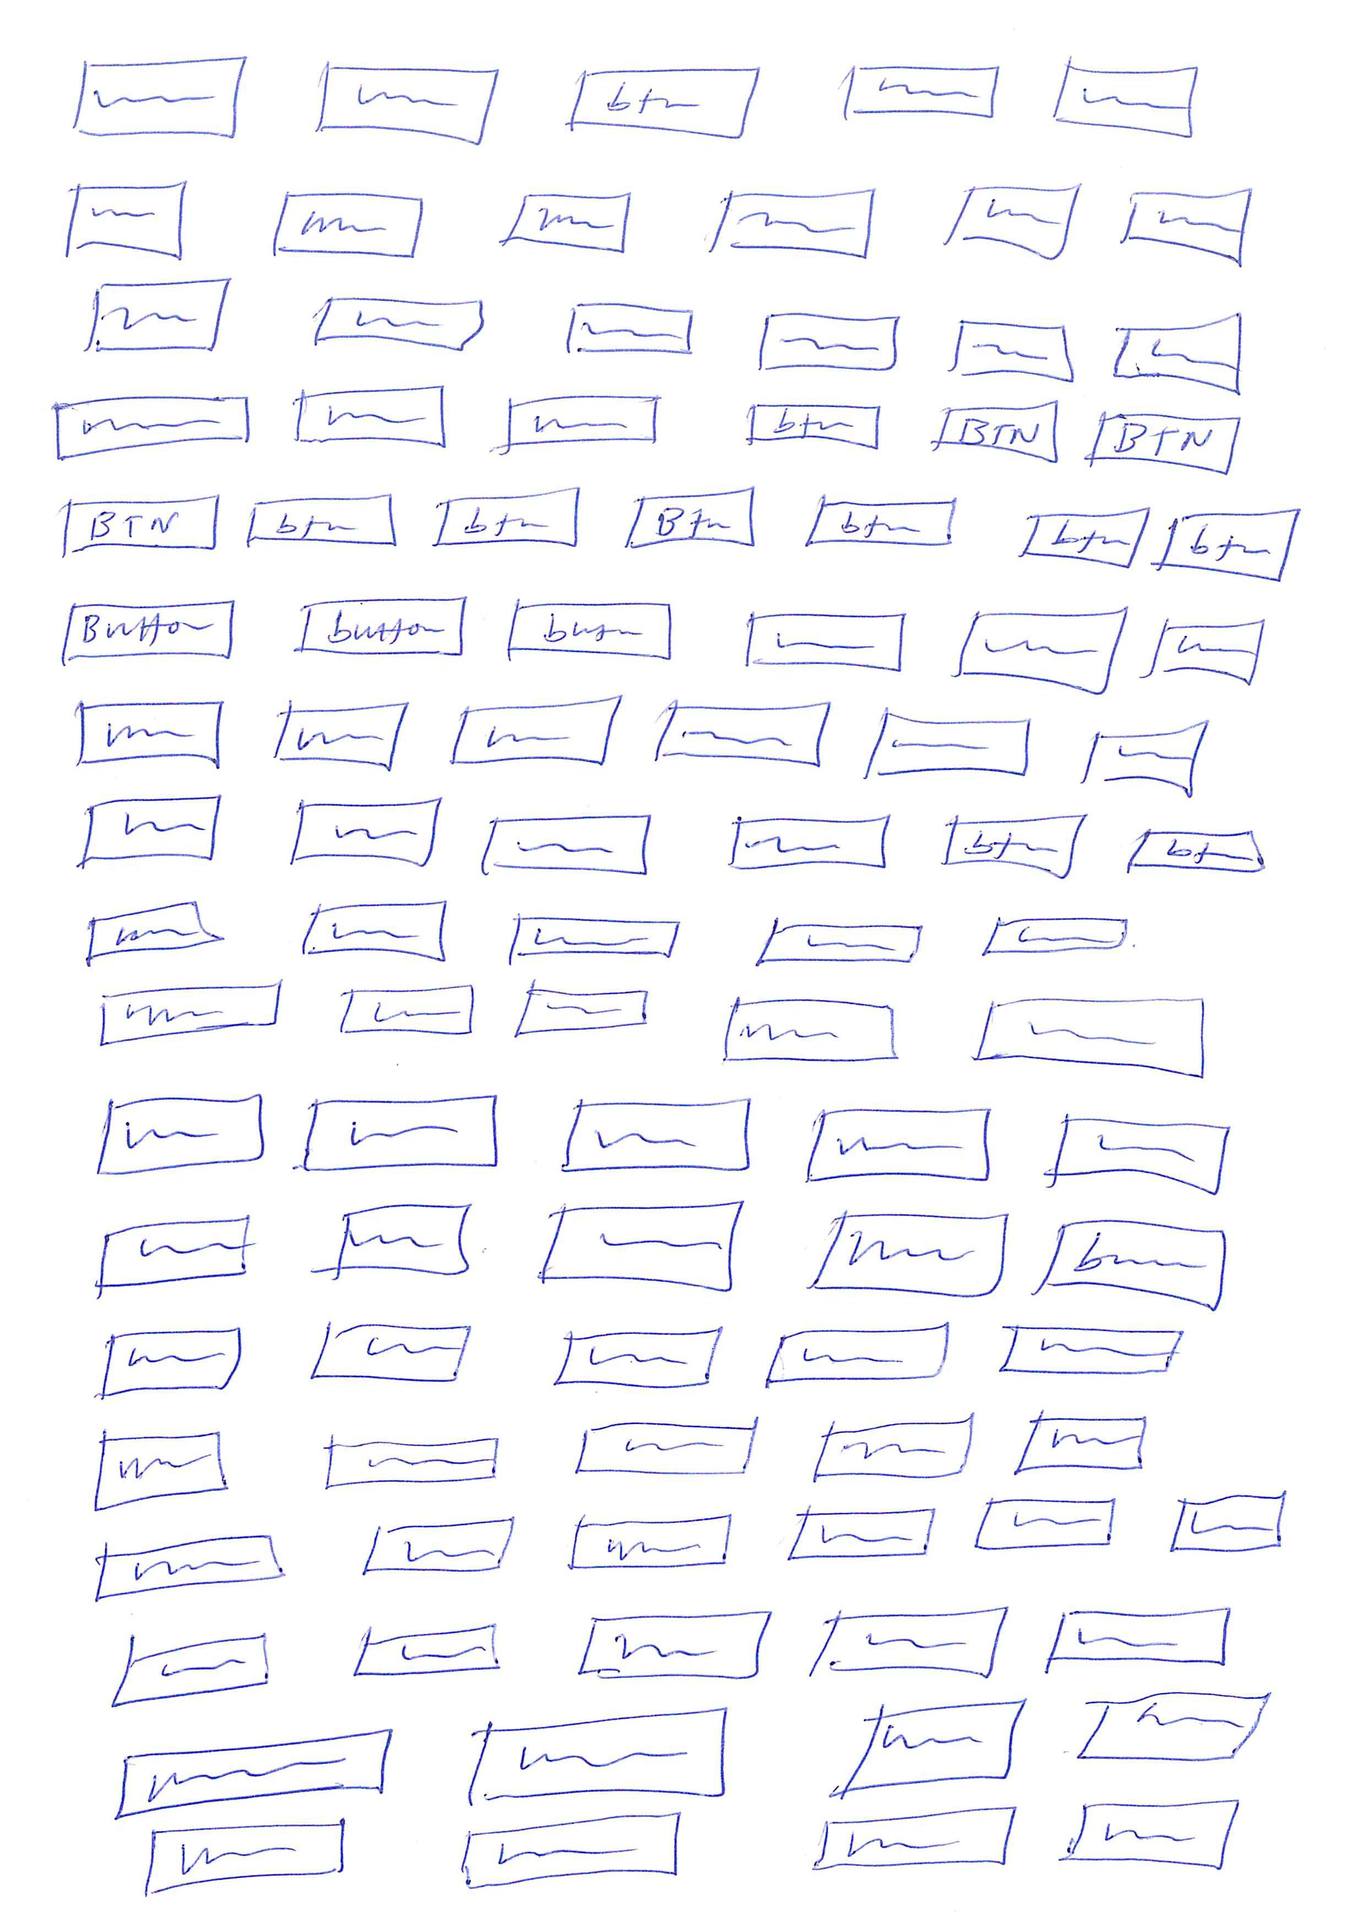Button: (1035, 1218, 1231, 1314), (563, 64, 766, 142), (68, 55, 253, 140), (649, 698, 834, 770), (58, 597, 239, 665), (294, 591, 470, 659), (1158, 509, 1305, 586), (58, 492, 223, 560), (1085, 408, 1243, 478), (507, 596, 676, 659), (937, 809, 1090, 878), (430, 483, 585, 552), (319, 1433, 500, 1490), (242, 489, 401, 549), (622, 485, 757, 553), (1016, 503, 1153, 568), (931, 398, 1061, 466), (801, 492, 955, 549), (745, 401, 883, 452), (1124, 828, 1268, 875)
